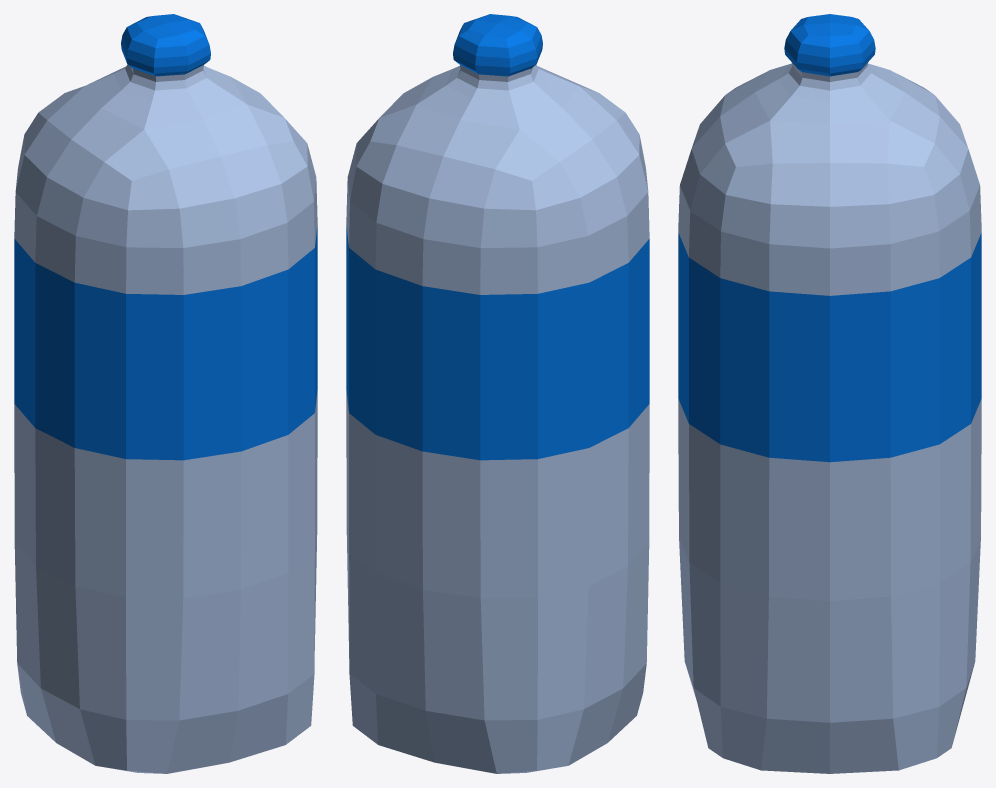
Rendered from bouteille_eau.fbx.
3 views of the same model, side by side, from view 1: azimuth 30°, elevation 25°; view 2: azimuth 150°, elevation 25°; view 3: azimuth 270°, elevation 25° (orthographic).
Visible parts, largest first — view 1: bouteille; view 2: bouteille; view 3: bouteille.
Boxes of the visible parts, x1=… form: bouteille: x1=14, y1=14, x2=317, y2=773; bouteille: x1=346, y1=14, x2=649, y2=773; bouteille: x1=678, y1=14, x2=981, y2=773.
Size of the model in its own units: 38.47 by 99.84 by 38.47.
